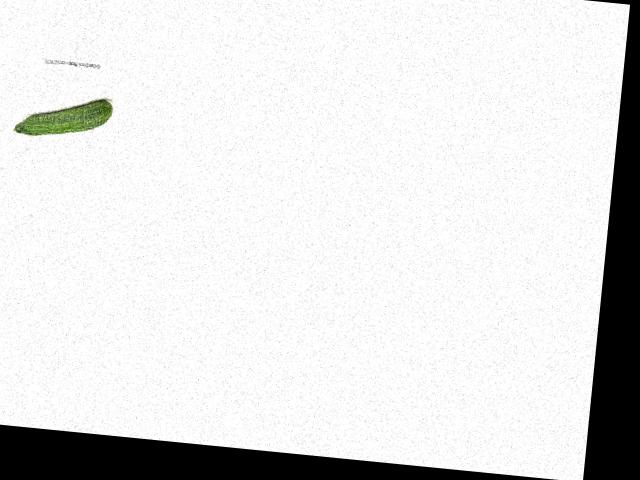cucumber: (12, 91, 112, 142)
